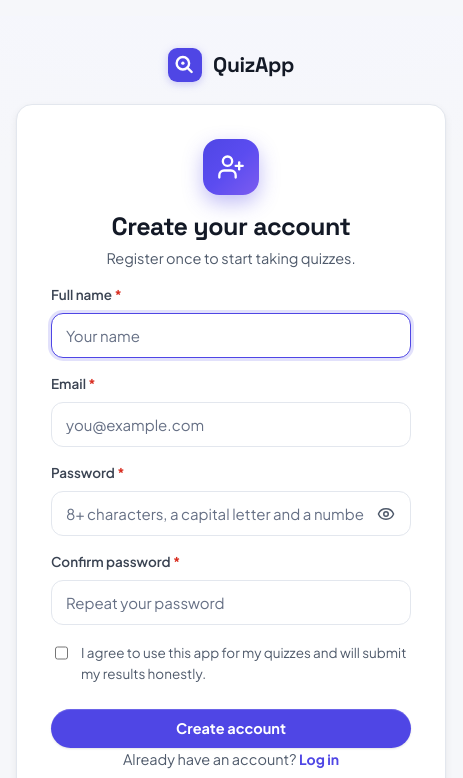
Test: RegisterPage › shows the confirmation screen when sign-up returns no session
In the field labelled "Full name *": (231, 336) x1=51 y1=313 x2=411 y2=358, type "Ali B"
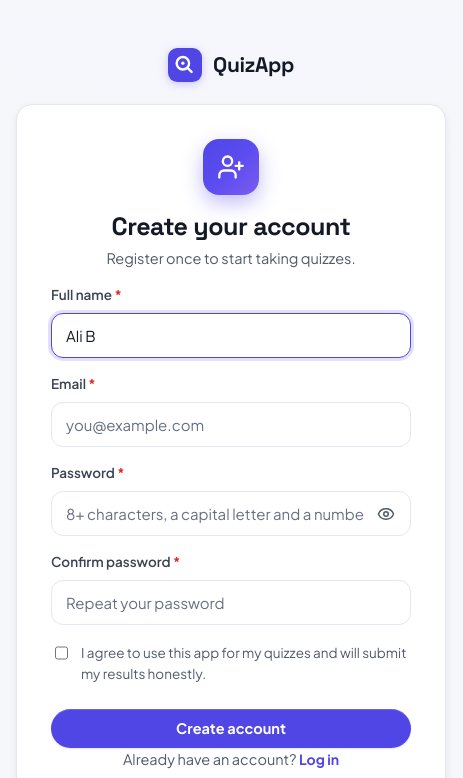
In the field labelled "Email *": (231, 425) x1=51 y1=402 x2=411 y2=447, type "a@b.com"
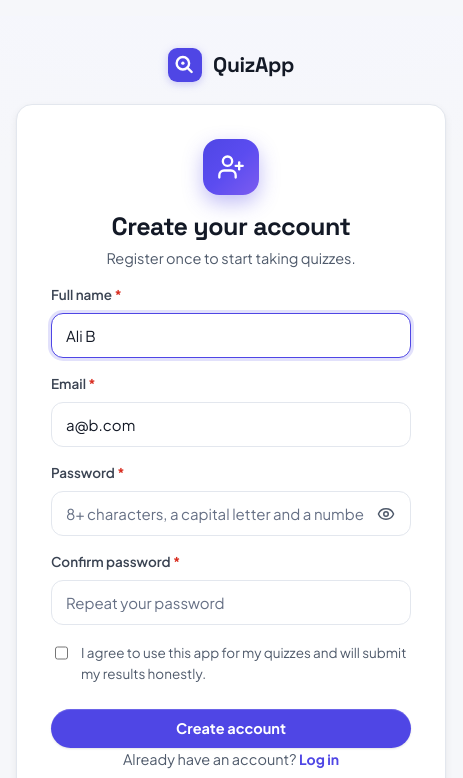
In the password field labelled "Password *": (231, 514) x1=51 y1=491 x2=411 y2=536, type "Passw0rd!"
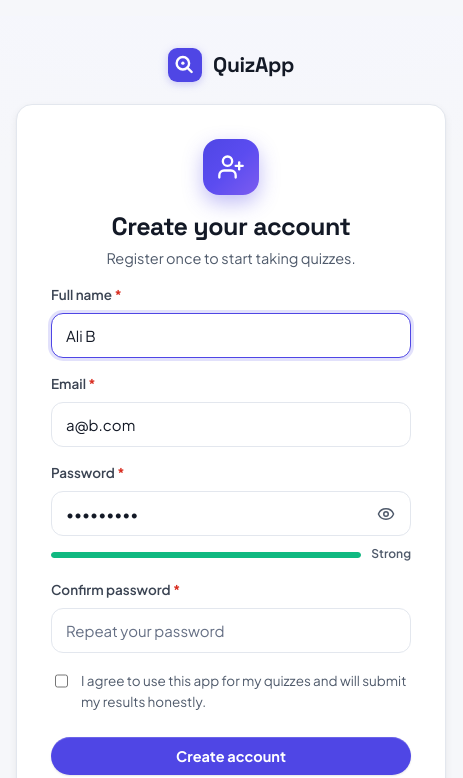
In the password field labelled "Confirm password *": (231, 630) x1=51 y1=608 x2=411 y2=653, type "Passw0rd!"
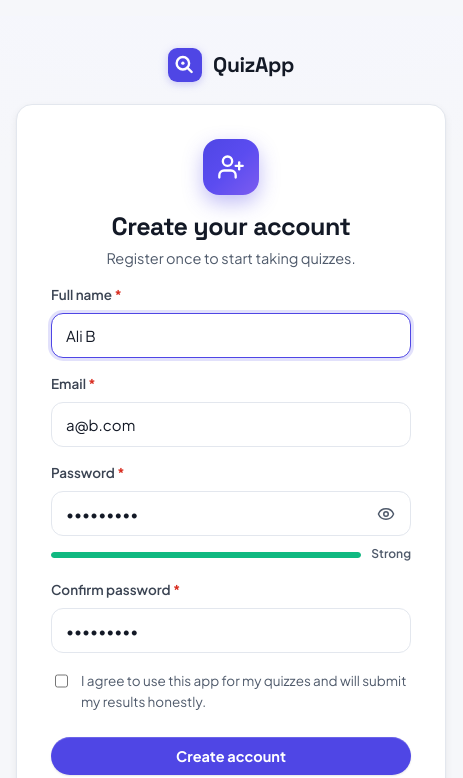
Click the checkbox labelled "I agree to use this app": (62, 681) x1=55 y1=673 x2=68 y2=689
(page scrolled)
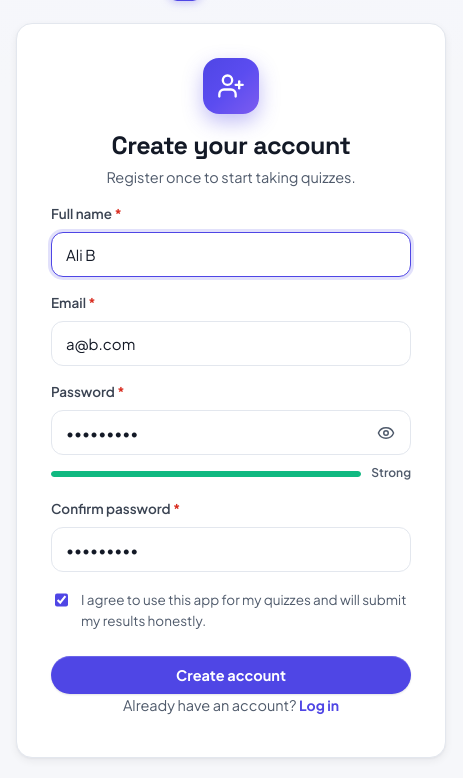
Submit the form
(page scrolled)
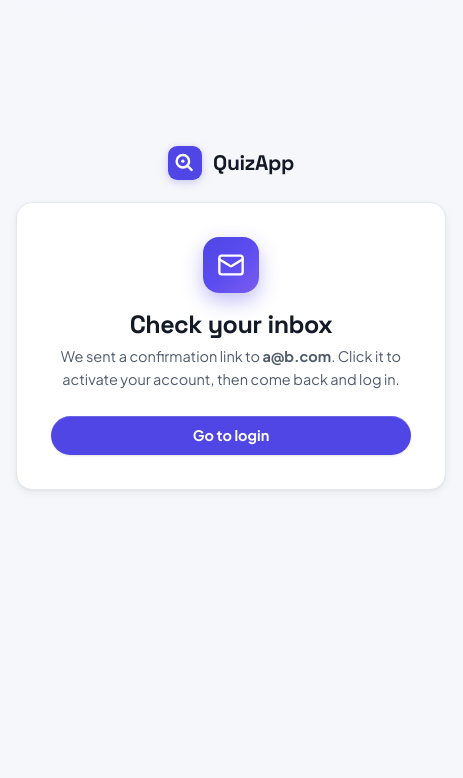
Expected: the heading "Check your inbox" is shown, x1=130 y1=308 x2=332 y2=340
